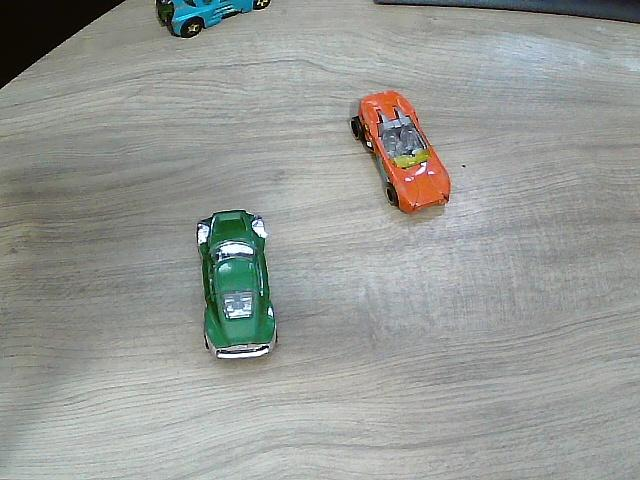Carro: (351, 91, 452, 216), (197, 211, 276, 361), (157, 0, 271, 39)
